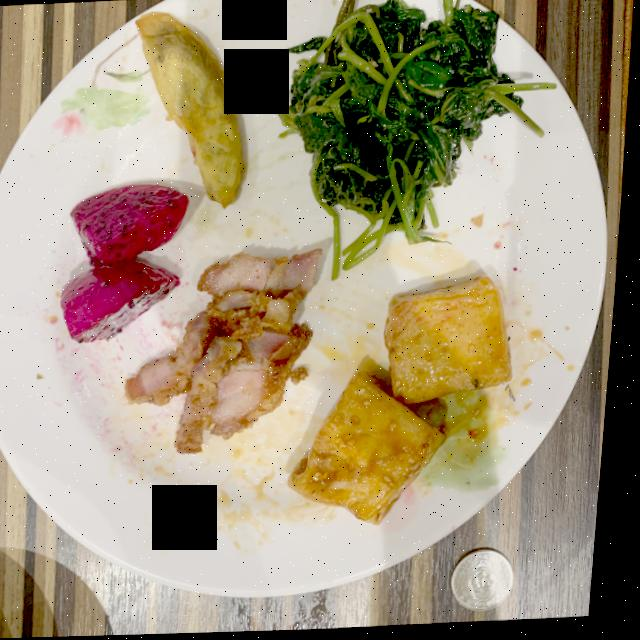coin: (461, 550, 524, 614)
creamy tofu: (296, 278, 519, 527)
red grilled pork: (133, 251, 326, 455)
sweet potato leaves: (276, 0, 555, 271)
